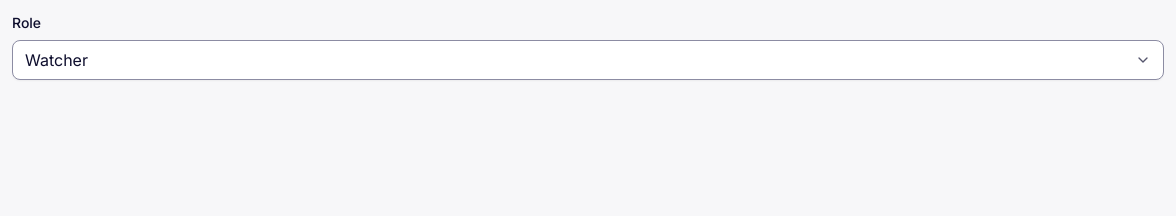
Scenario: SelectField › reads out option descriptions after the label, as part of the option name
Step 1. Click the dropdown named "Role" → (56, 60), box [12,40,1164,80]
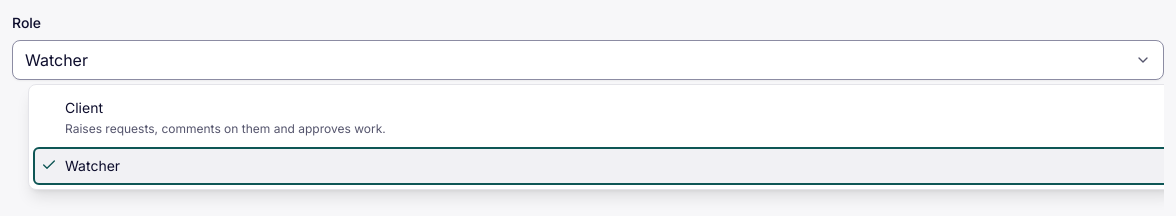
Expected: the option "Client Raises requests, comments on them and approves work." is shown, [65,99,386,136]
